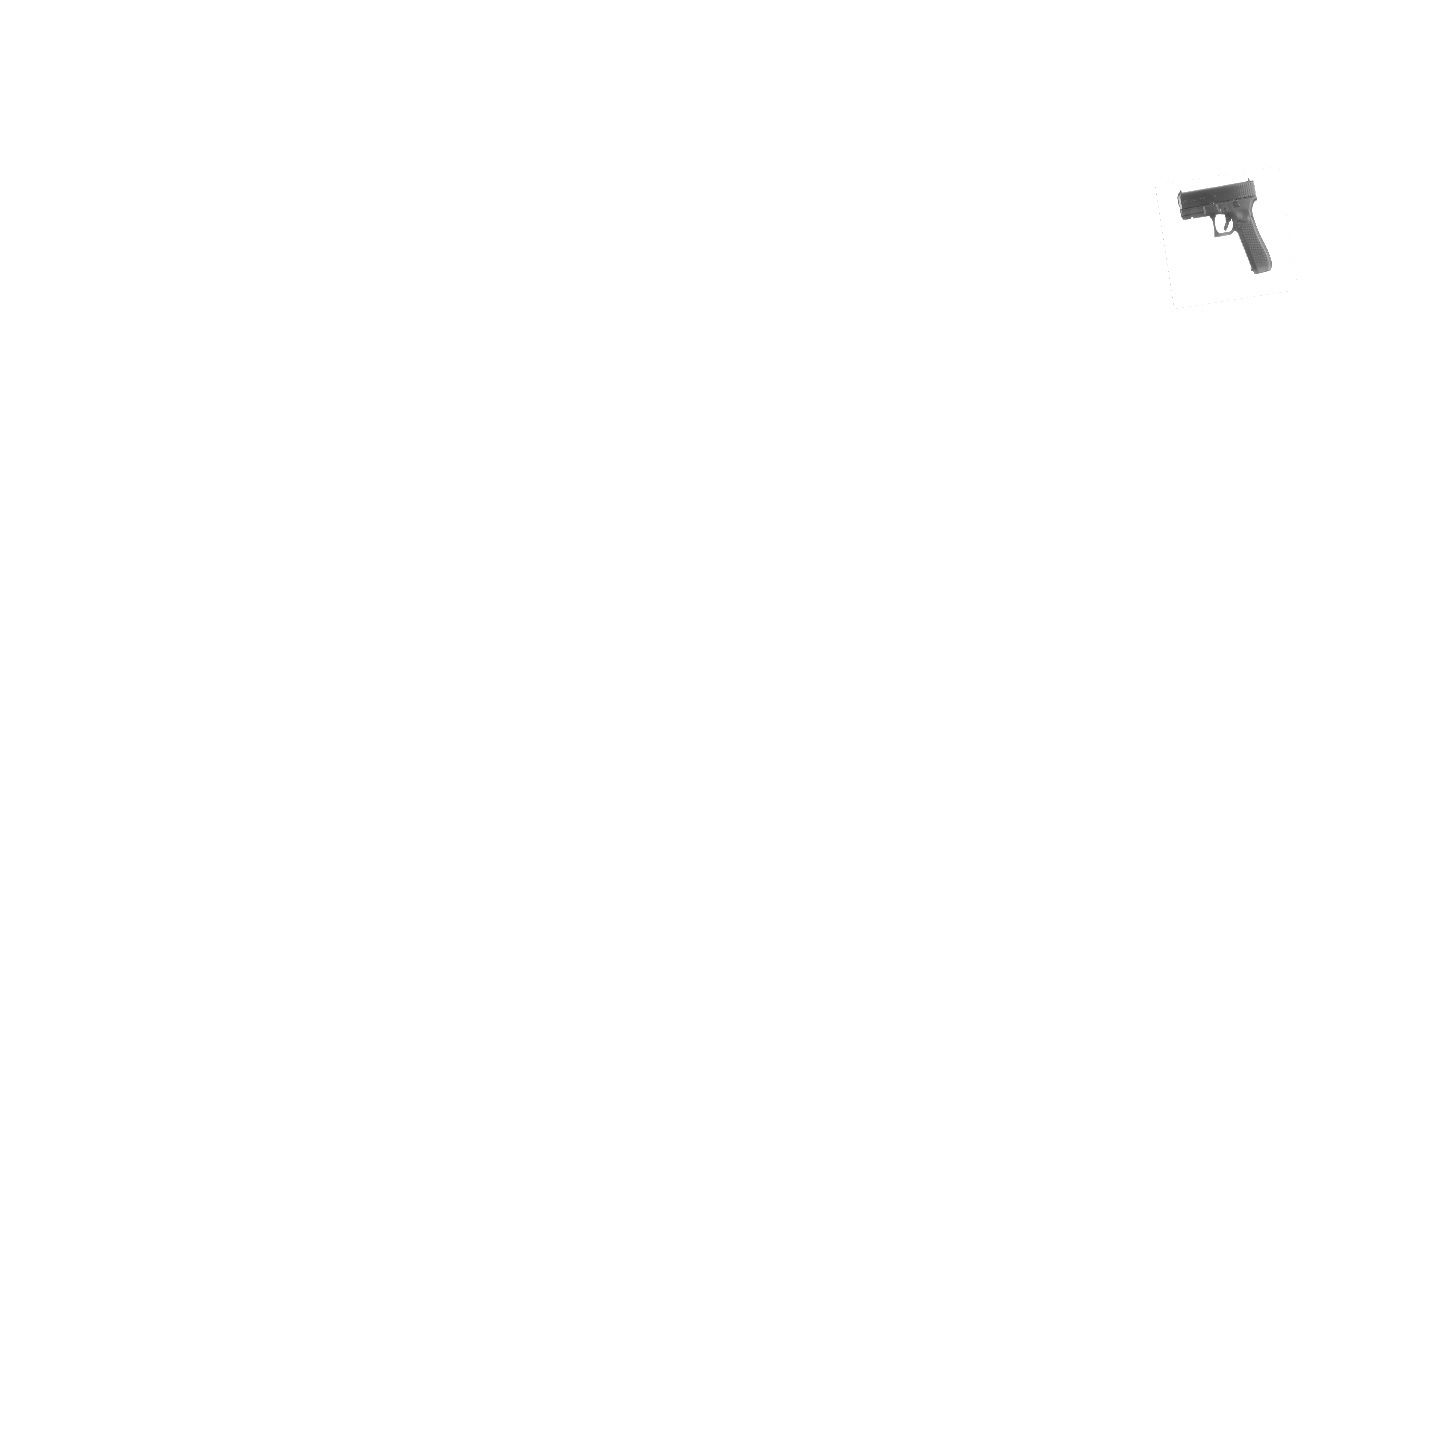gun: (1173, 175, 1277, 279)
